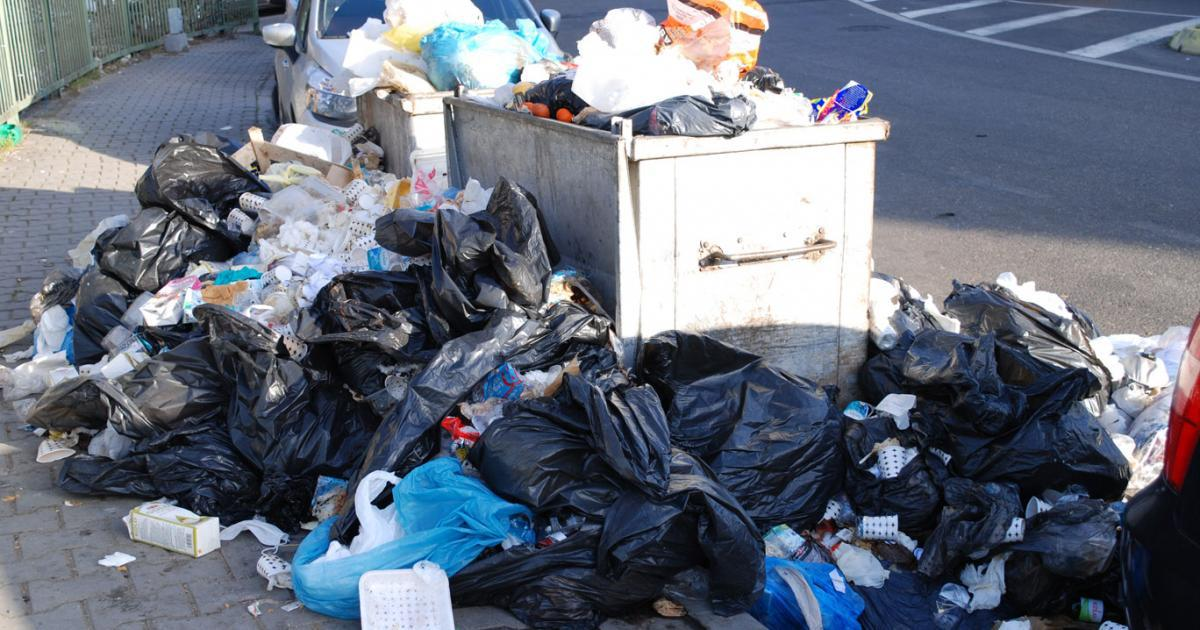Container: (456, 102, 873, 404), (359, 99, 453, 178)
Garbage: (23, 118, 360, 567), (876, 267, 1200, 630), (629, 317, 854, 545), (828, 443, 1061, 617), (582, 437, 803, 599), (334, 454, 529, 630), (505, 415, 641, 609), (952, 261, 1127, 397), (466, 359, 657, 470), (691, 537, 898, 630), (846, 377, 978, 519), (466, 175, 570, 309), (517, 275, 629, 393), (865, 269, 978, 375), (122, 485, 236, 589), (98, 207, 202, 315), (248, 502, 341, 620), (39, 313, 116, 453), (412, 10, 544, 90), (148, 137, 238, 250), (589, 10, 703, 98), (203, 292, 295, 400), (649, 0, 766, 73), (265, 199, 355, 292), (489, 55, 590, 117), (328, 22, 409, 97), (646, 100, 775, 138), (379, 0, 469, 51), (791, 77, 874, 125), (162, 342, 203, 425), (366, 59, 436, 106), (448, 170, 491, 237), (346, 122, 392, 176), (411, 165, 444, 215), (38, 260, 68, 291)
